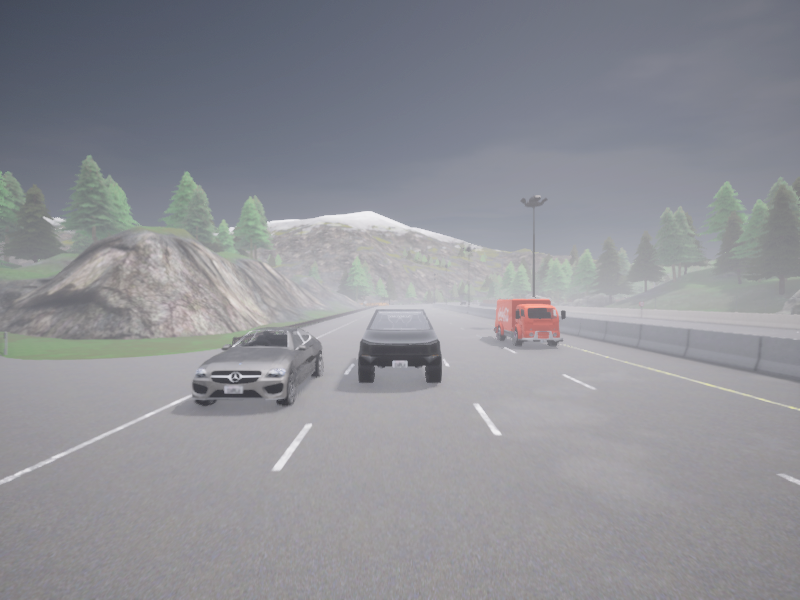vehicle: (192, 327, 322, 405), (358, 309, 441, 382), (494, 299, 564, 346), (473, 300, 479, 304), (461, 301, 467, 304)
